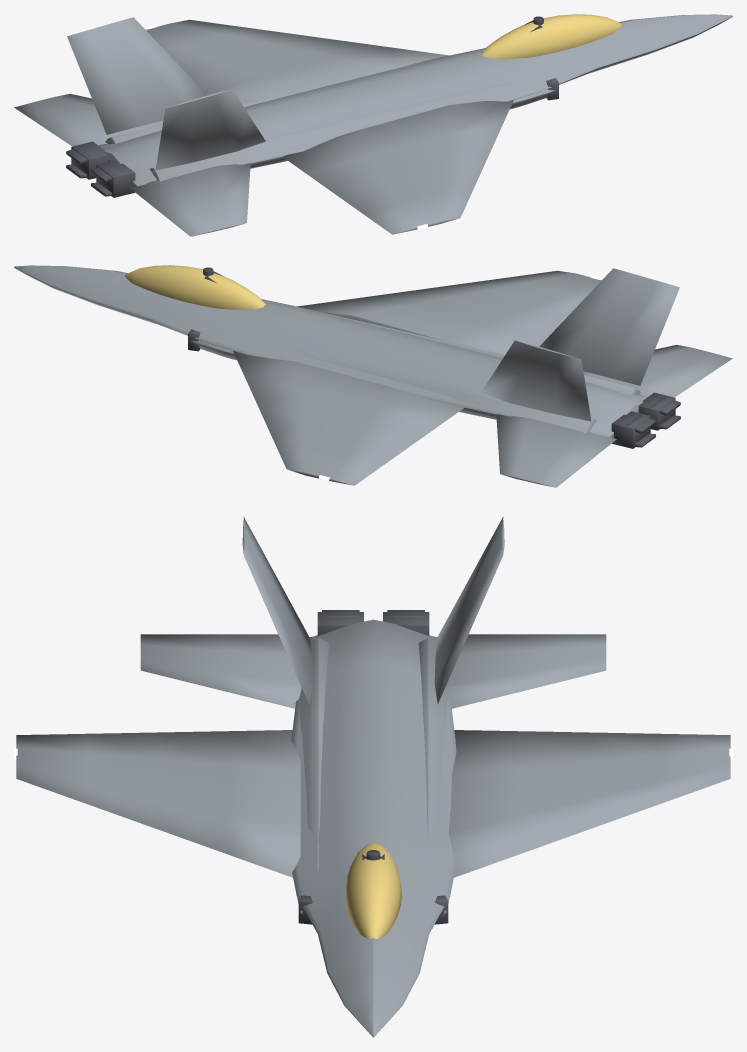
File: SM_F22_Raptor.fbx
The picture shows the model from 3 angles, top to bottom: view 1: azimuth 30°, elevation 25°; view 2: azimuth 150°, elevation 25°; view 3: azimuth 270°, elevation 25°; orthographic projection. The views are drawn at different scales.
Visible parts, largest first — view 1: SM_F22_Raptor; view 2: SM_F22_Raptor; view 3: SM_F22_Raptor.
Boxes of the visible parts, <box> form: SM_F22_Raptor: <box>14,14,732,236</box>; SM_F22_Raptor: <box>14,265,732,487</box>; SM_F22_Raptor: <box>14,517,732,1037</box>.
Size of the model in its own units: 18.68 by 13.65 by 3.3.
